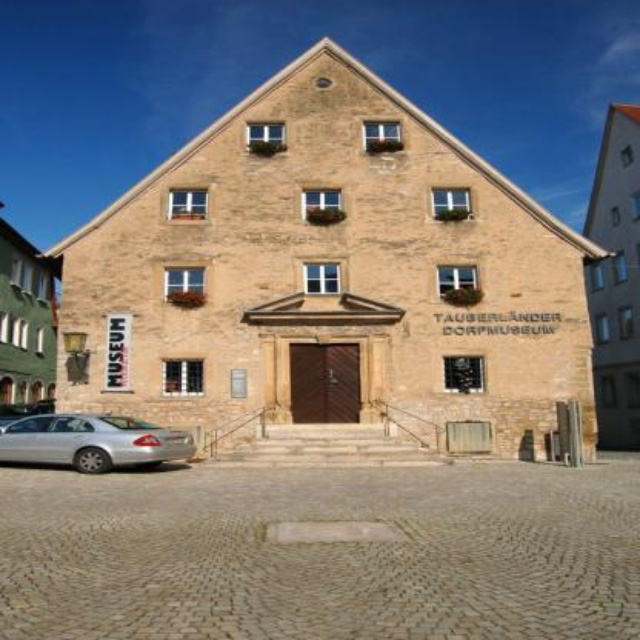Car: (0, 414, 197, 481)
